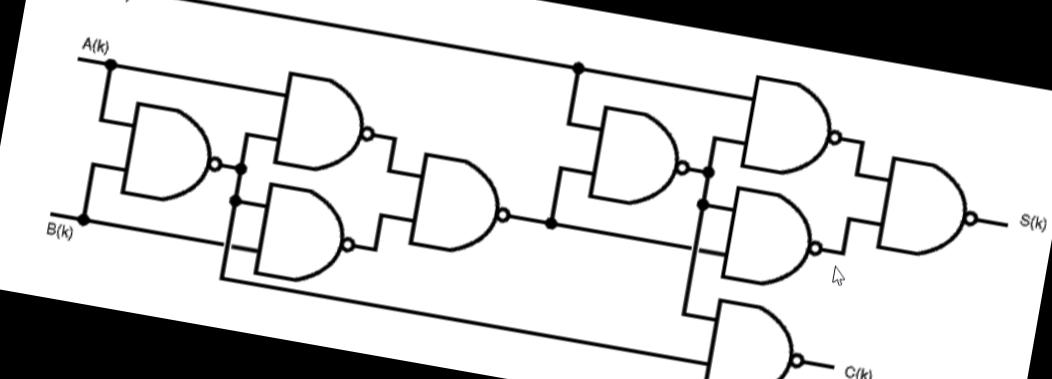nand: (579, 92, 701, 228), (258, 61, 388, 183), (242, 172, 367, 298), (108, 89, 231, 215), (402, 142, 524, 268), (870, 146, 992, 272), (710, 178, 836, 300), (730, 66, 854, 188), (693, 290, 815, 379)
